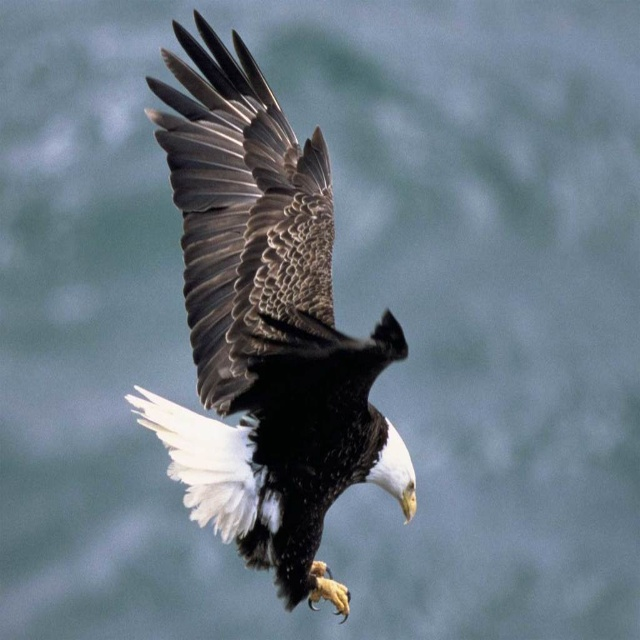Eagle: (127, 7, 419, 626)
